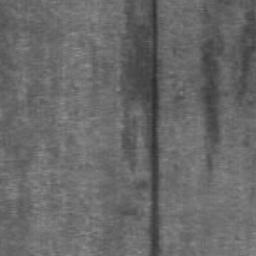Scratches: (146, 0, 163, 256)
